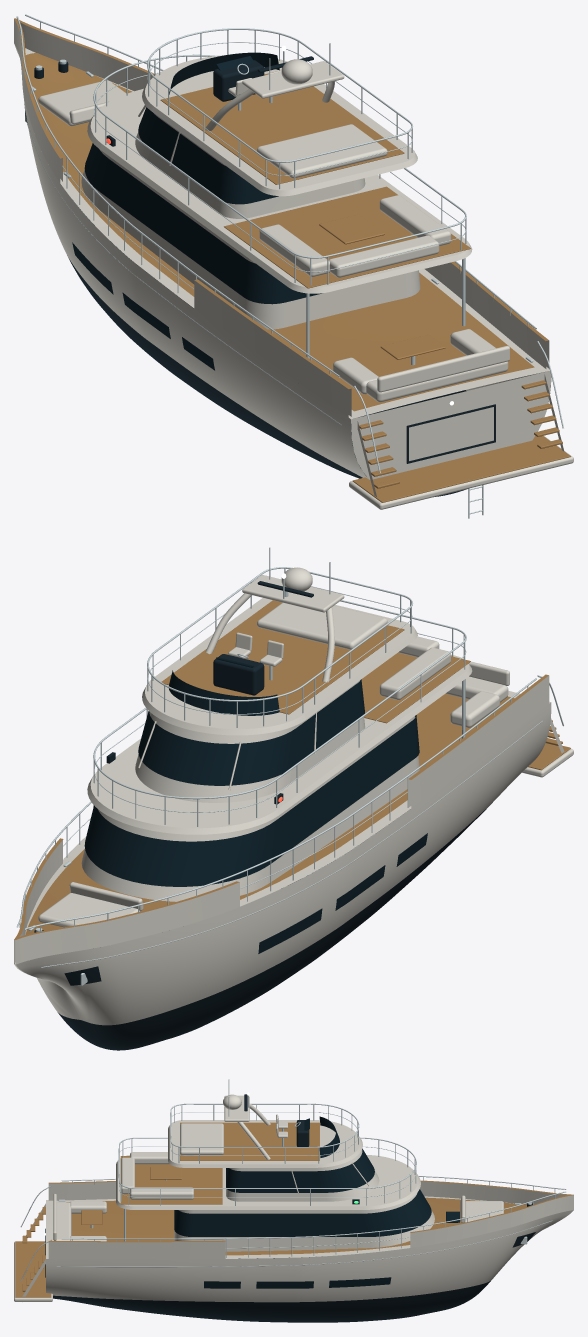
Rendered from superyacht-high.glb.
3 views of the same model, one above another, from view 1: azimuth 30°, elevation 25°; view 2: azimuth 150°, elevation 25°; view 3: azimuth 270°, elevation 25° (orthographic). The views are drawn at different scales.
Visible parts, largest first — view 1: v4-ivory-gelcoat, v4-teak, v4-dark-glazing, v4-stainless, v4-navy-boot; view 2: v4-ivory-gelcoat, v4-dark-glazing, v4-teak, v4-navy-boot, v4-stainless; view 3: v4-ivory-gelcoat, v4-teak, v4-dark-glazing, v4-navy-boot, v4-stainless.
Boxes of the visible parts, x1,y1,x2,y2 form: v4-ivory-gelcoat: (14,19,573,509); v4-teak: (14,18,570,502); v4-dark-glazing: (72,52,322,370); v4-stainless: (16,14,563,518); v4-navy-boot: (25,56,495,496); v4-ivory-gelcoat: (14,567,573,1025); v4-dark-glazing: (84,657,427,953); v4-teak: (14,600,570,939); v4-navy-boot: (34,581,492,1050); v4-stainless: (16,547,563,985); v4-ivory-gelcoat: (14,1094,573,1302); v4-teak: (15,1122,573,1297); v4-dark-glazing: (174,1116,459,1288); v4-navy-boot: (45,1094,535,1322); v4-stainless: (20,1079,566,1281).
Bounding box in the file's own units: 7.61 × 12.57 × 28.
